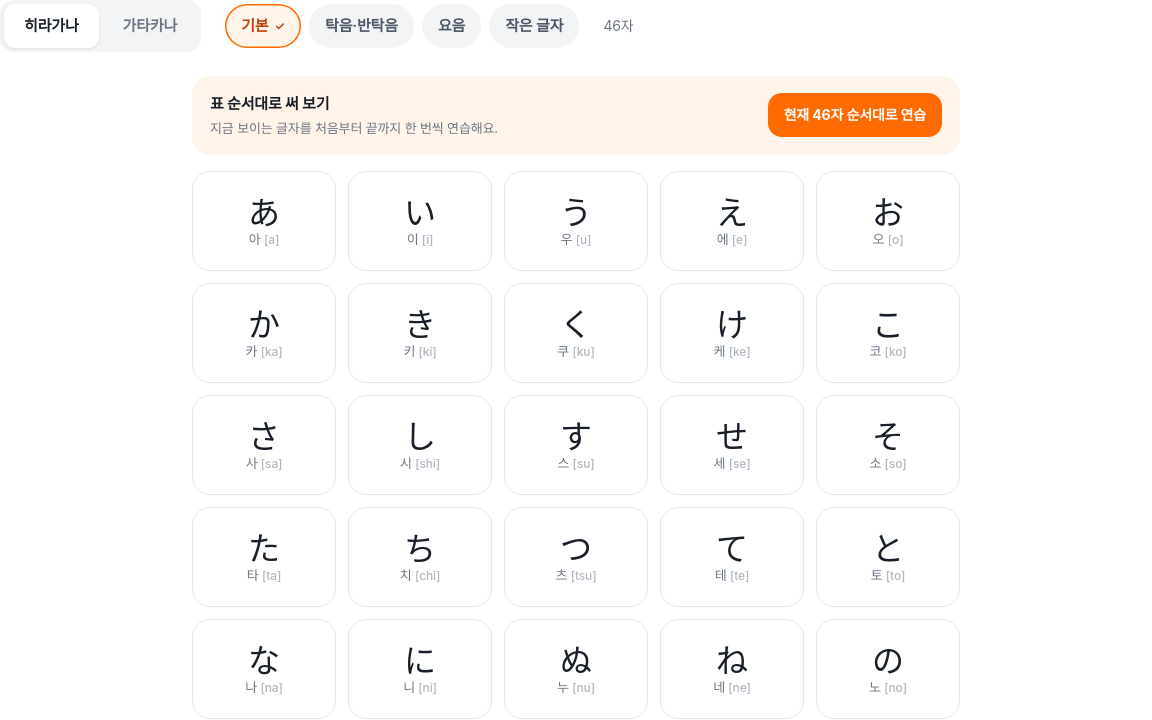
Test: opens the selected katakana yoon unit with its practice target
Click the button "가타카나" at (150, 26), box 103,4 -> 197,48
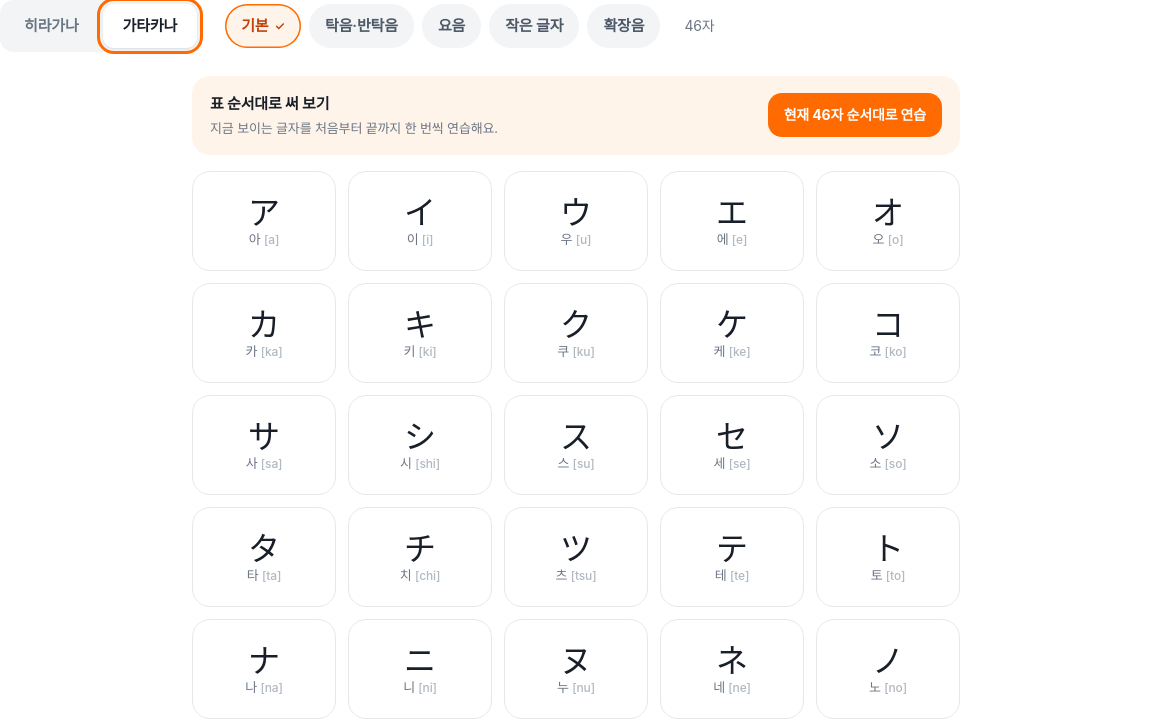
Click the button "요음" at (452, 26), box 422,4 -> 481,48
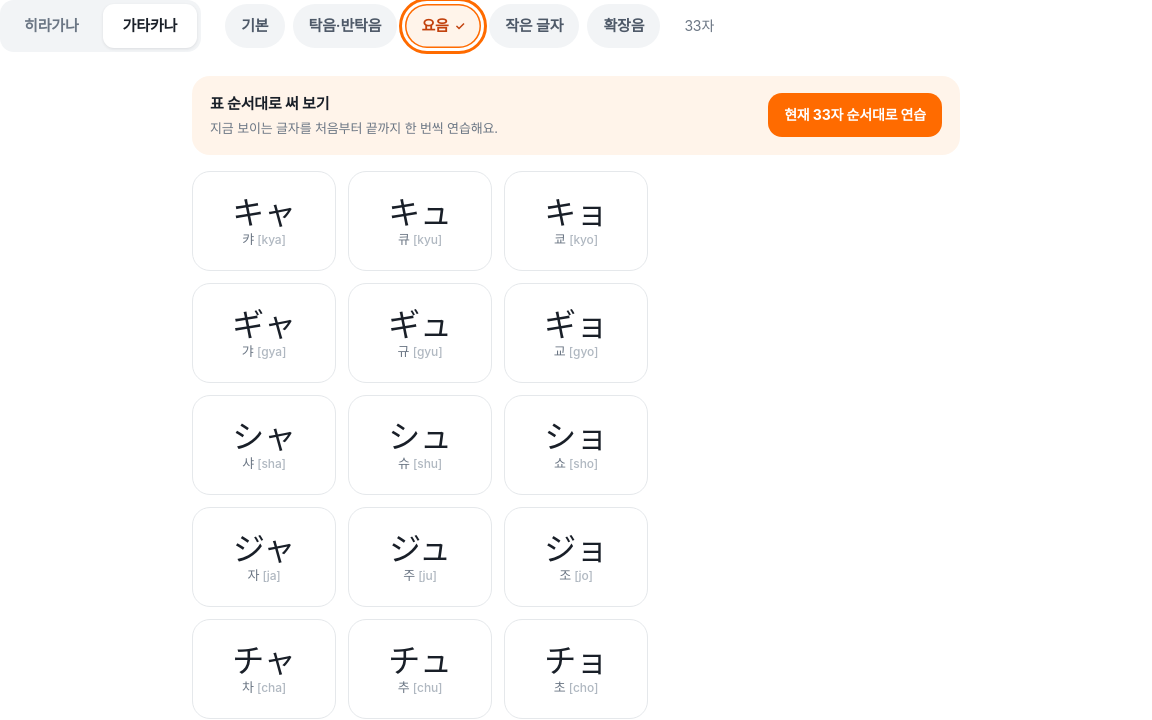
Click the button with aria-label "キャ, kya, 캬" at (264, 221), box 192,171 -> 336,271
(page scrolled)
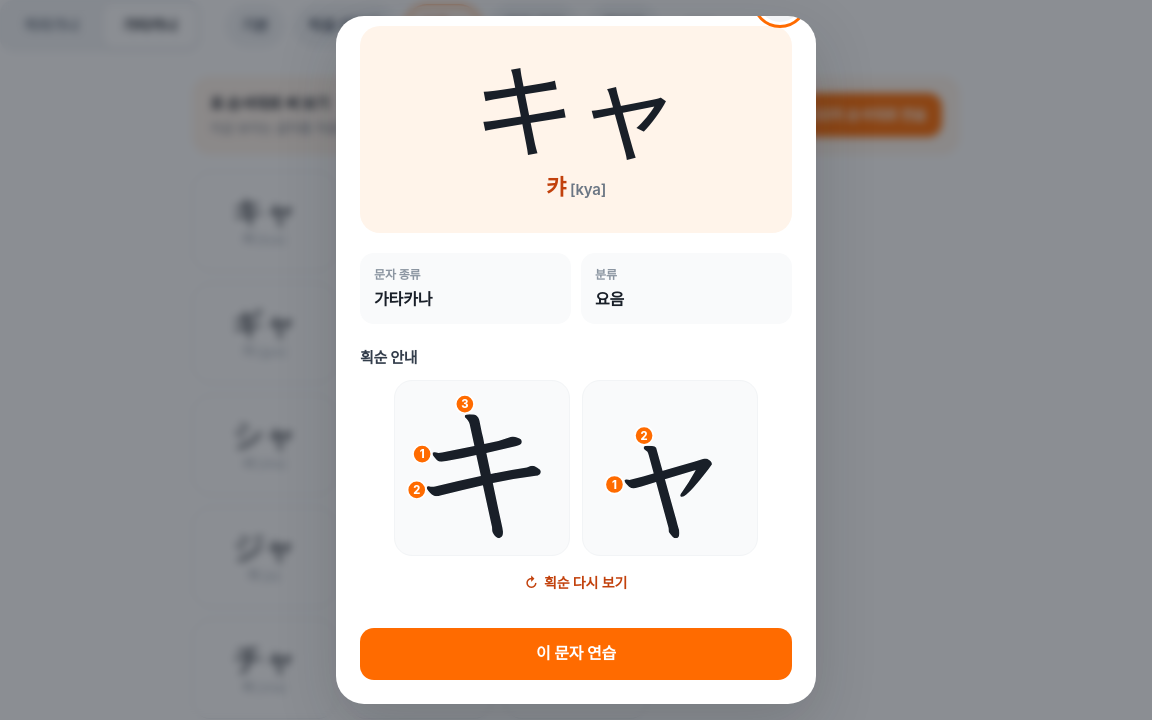
Check: the dialog "キャ 상세" shows "kya", box 575,180 -> 601,199
Check: the dialog "キャ 상세" shows "캬", box 546,174 -> 566,200
